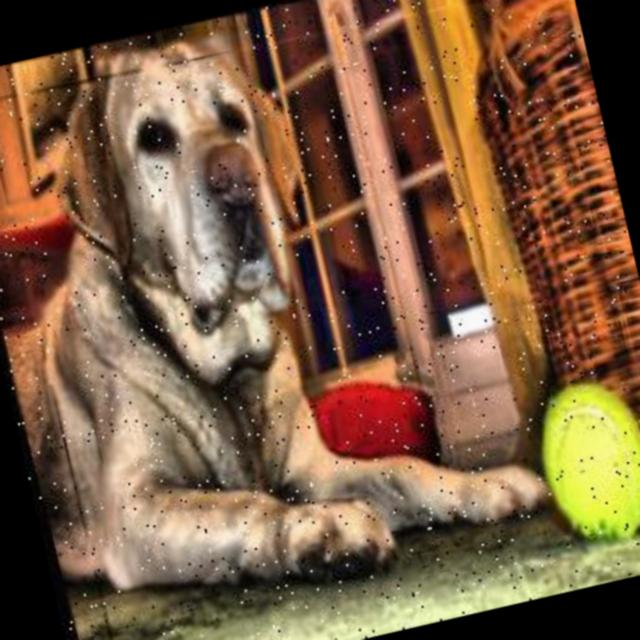tennis-ball: (519, 368, 640, 560)
